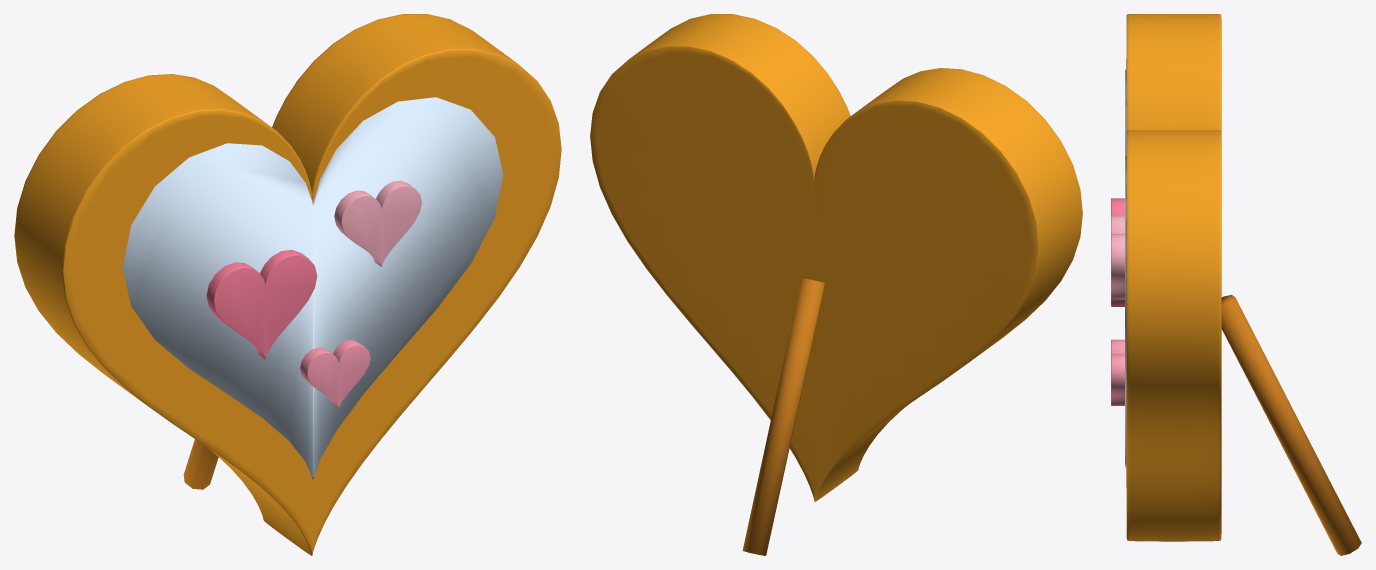
Rendered from d-frame.glb.
3 views of the same model, side by side, from view 1: azimuth 30°, elevation 25°; view 2: azimuth 150°, elevation 25°; view 3: azimuth 270°, elevation 25° (orthographic). The views are drawn at different scales.
Visible parts, largest first — view 1: d-frame; view 2: d-frame; view 3: d-frame.
Boxes of the visible parts, x1=… form: d-frame: x1=14, y1=14, x2=561, y2=555; d-frame: x1=590, y1=14, x2=1082, y2=555; d-frame: x1=1111, y1=14, x2=1361, y2=555.
Bounding box in the file's own units: 0.1395 × 0.13 × 0.063.
